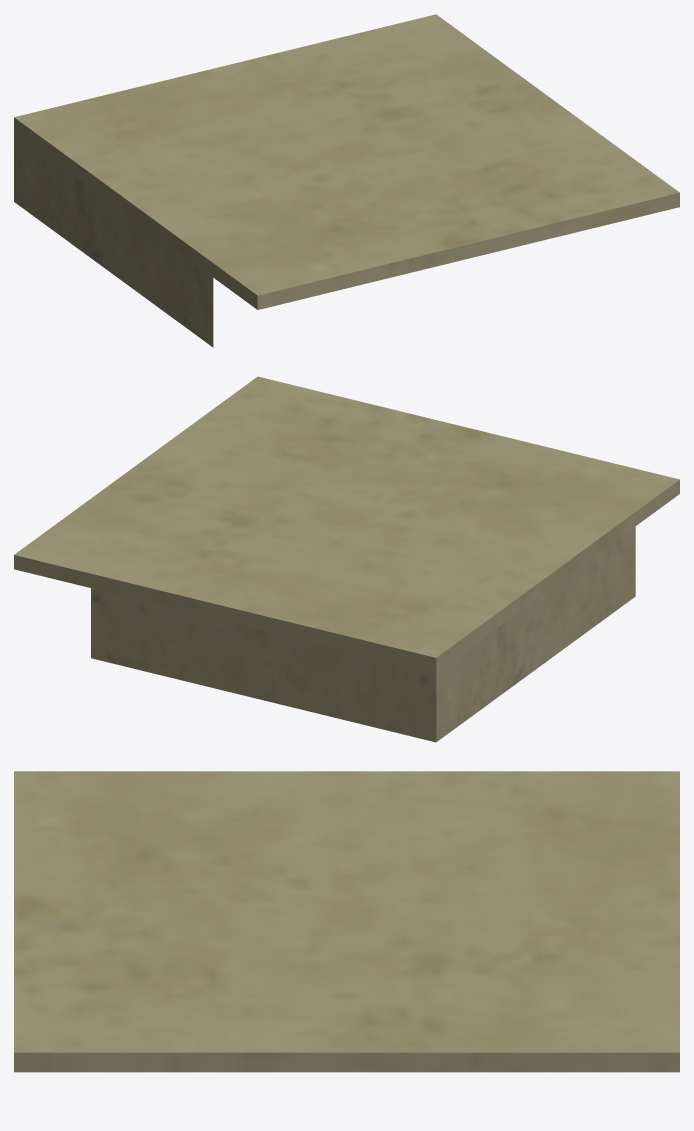
Rendered from brick_cornercolumn_capshort.glb.
The picture shows the model from 3 angles, top to bottom: view 1: azimuth 30°, elevation 25°; view 2: azimuth 150°, elevation 25°; view 3: azimuth 270°, elevation 25°; orthographic projection. The views are drawn at different scales.
Parts seen in each view (by area): view 1: Brick_CornerColumn_CapShort; view 2: Brick_CornerColumn_CapShort; view 3: Brick_CornerColumn_CapShort.
Boxes of the visible parts, x1,y1,x2,y2 form: Brick_CornerColumn_CapShort: [14, 14, 679, 347]; Brick_CornerColumn_CapShort: [14, 376, 679, 742]; Brick_CornerColumn_CapShort: [14, 771, 679, 1072].
Bounding box in the file's own units: 1.26 × 0.2411 × 1.26.
Materials: 1 (1 with a texture image).
